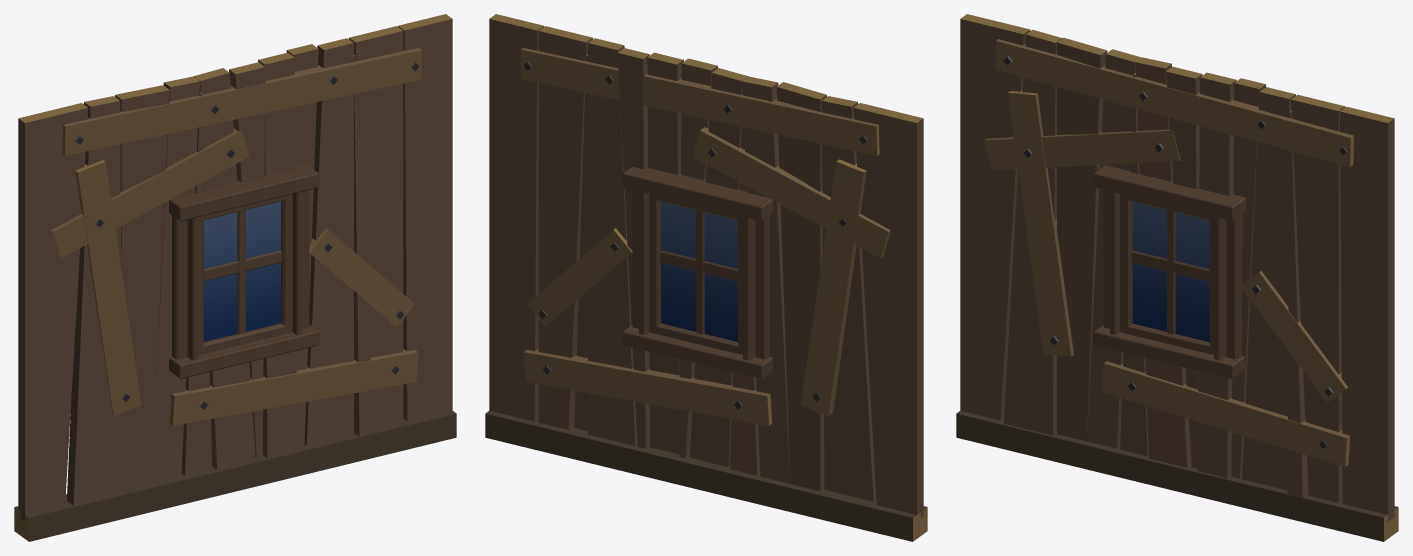
The model's file is Wall_1F_Window_4m.fbx.
The picture shows the model from 3 angles, left to right: view 1: azimuth 30°, elevation 25°; view 2: azimuth 150°, elevation 25°; view 3: azimuth 330°, elevation 25°; orthographic projection.
Parts seen in each view (by area): view 1: polySurface2151; view 2: polySurface2151; view 3: polySurface2151.
Boxes of the visible parts, left/top/right/bottom form: polySurface2151: left=14, top=14, right=456, bottom=541; polySurface2151: left=485, top=14, right=927, bottom=541; polySurface2151: left=956, top=14, right=1398, bottom=541.
Bounding box in the file's own units: 400 × 372 × 46.54.
